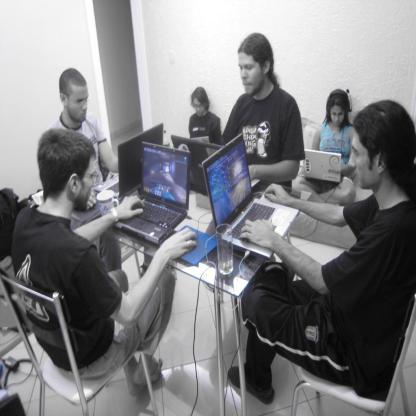board: (202, 133, 300, 262), (113, 140, 190, 244), (169, 135, 262, 199), (95, 124, 163, 202), (303, 149, 345, 186)
